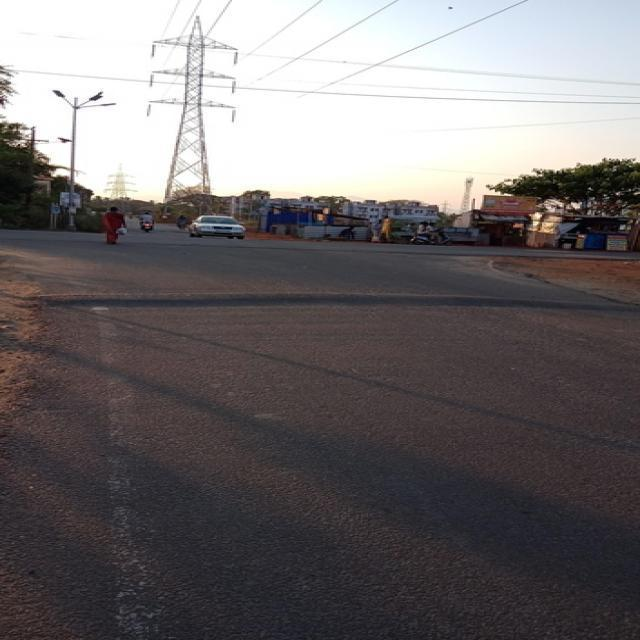NonMarked Bump: (44, 283, 618, 322)
